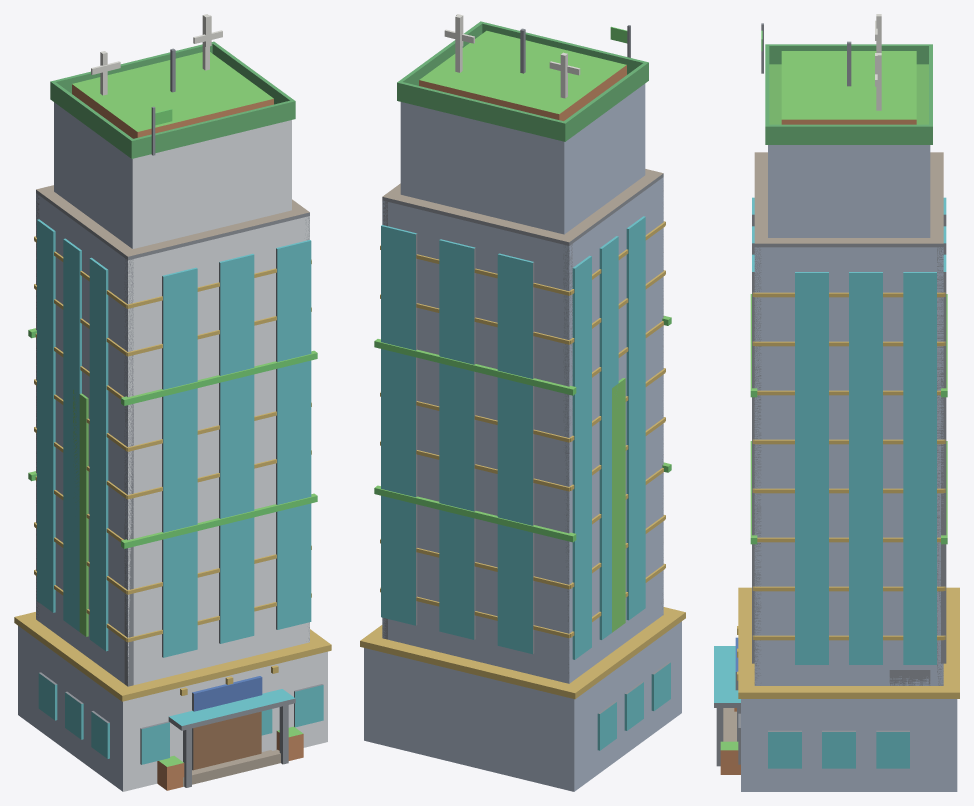
Rendered from EthicalMegacorp.fbx.
3 renders of one model, left to right at view 1: azimuth 30°, elevation 25°; view 2: azimuth 150°, elevation 25°; view 3: azimuth 270°, elevation 25°, orthographic. The views are drawn at different scales.
Visible parts, largest first — view 1: EthicalMegacorp; view 2: EthicalMegacorp; view 3: EthicalMegacorp.
Part boxes in pixels (x1,y1,x2,y2): EthicalMegacorp: (14,14,331,791); EthicalMegacorp: (360,14,685,791); EthicalMegacorp: (714,14,959,791).
Size of the model in its own units: 1840 by 5800 by 1820.
